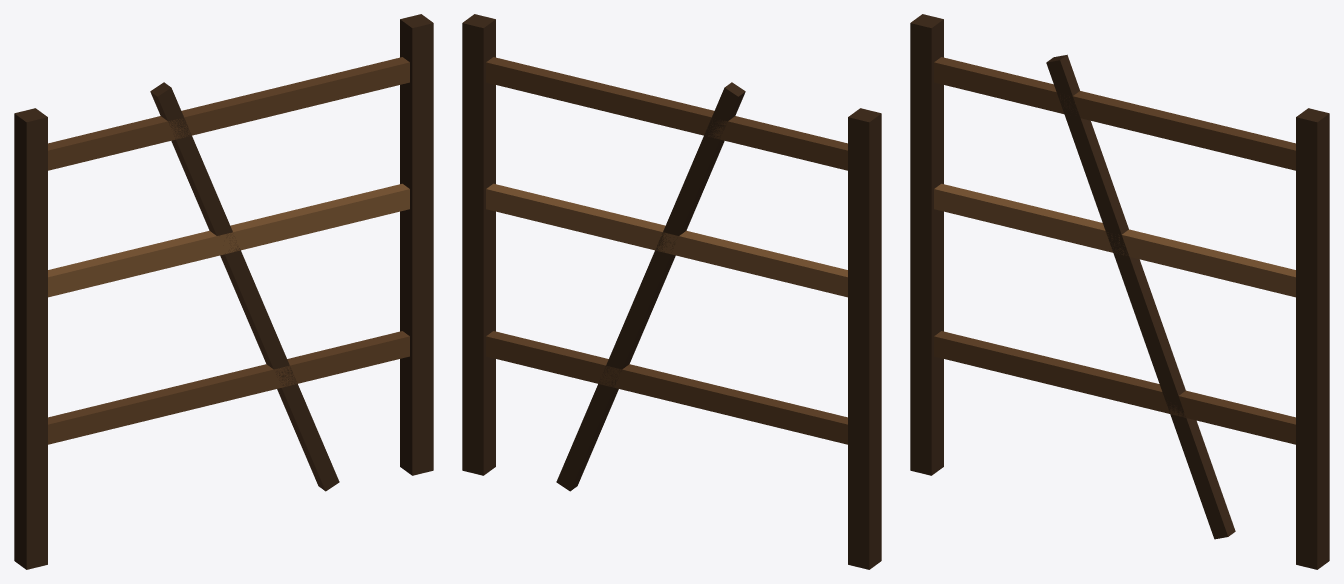
The model's file is jail_fence_half.obj.
3 views of the same model, side by side, from view 1: azimuth 30°, elevation 25°; view 2: azimuth 150°, elevation 25°; view 3: azimuth 330°, elevation 25° (orthographic).
Visible parts, largest first — view 1: geometry_0, geometry_1, geometry_3, geometry_2, geometry_4, geometry_5; view 2: geometry_0, geometry_1, geometry_3, geometry_2, geometry_4, geometry_5; view 3: geometry_1, geometry_0, geometry_5, geometry_2, geometry_3, geometry_4.
Part boxes in pixels (bbox=[...]): geometry_0: bbox=[14, 108, 47, 569]; geometry_1: bbox=[400, 14, 433, 475]; geometry_3: bbox=[48, 183, 409, 297]; geometry_2: bbox=[48, 331, 409, 444]; geometry_4: bbox=[48, 57, 409, 170]; geometry_5: bbox=[150, 82, 339, 491]; geometry_0: bbox=[848, 108, 881, 569]; geometry_1: bbox=[462, 14, 495, 475]; geometry_3: bbox=[486, 183, 847, 297]; geometry_2: bbox=[486, 331, 847, 444]; geometry_4: bbox=[486, 57, 847, 170]; geometry_5: bbox=[556, 82, 745, 491]; geometry_1: bbox=[1296, 108, 1329, 569]; geometry_0: bbox=[910, 14, 943, 475]; geometry_5: bbox=[1046, 54, 1235, 539]; geometry_2: bbox=[934, 331, 1295, 444]; geometry_3: bbox=[934, 183, 1295, 297]; geometry_4: bbox=[934, 57, 1295, 170].
Size of the model in its own units: 0.952 by 1 by 0.05.
